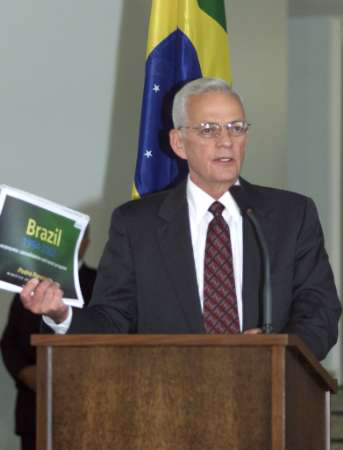Face: (177, 93, 256, 204)
